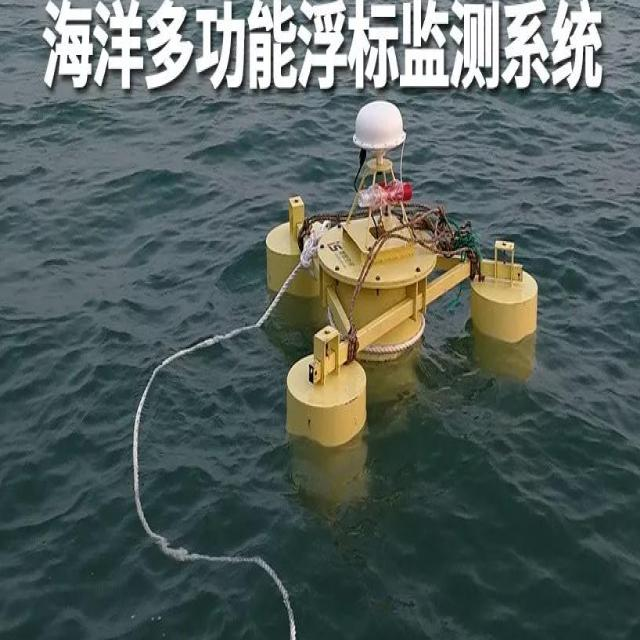buoy: (256, 94, 539, 446)
